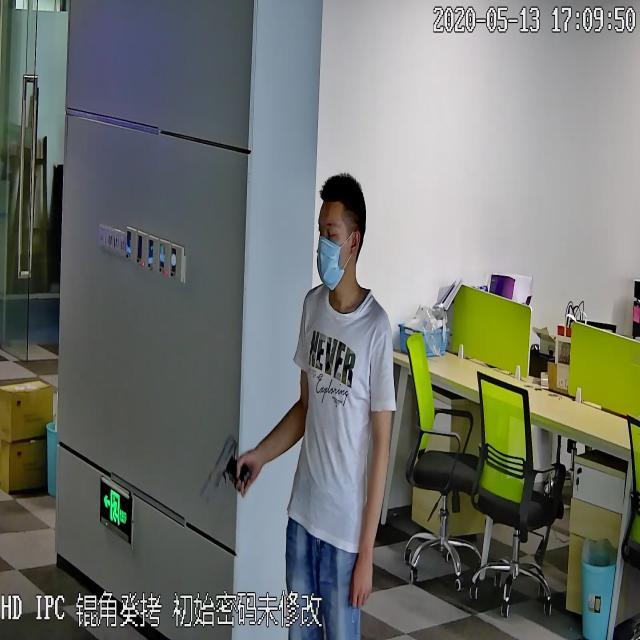gun: (198, 428, 253, 500)
